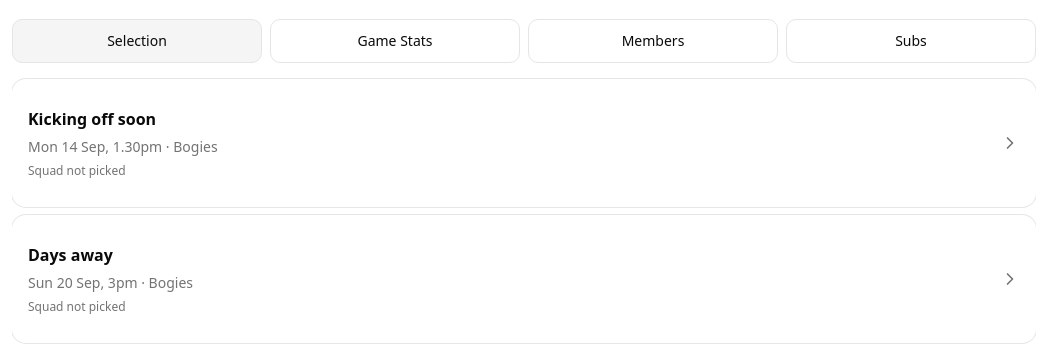
Scenario: Game Stats view (S17.2 AC2, AC3) › shows a match from an hour before kick-off, before it has started (S18.3)
Click the radio button labelled "Game Stats".
click(395, 41)  # box [270,19,520,63]
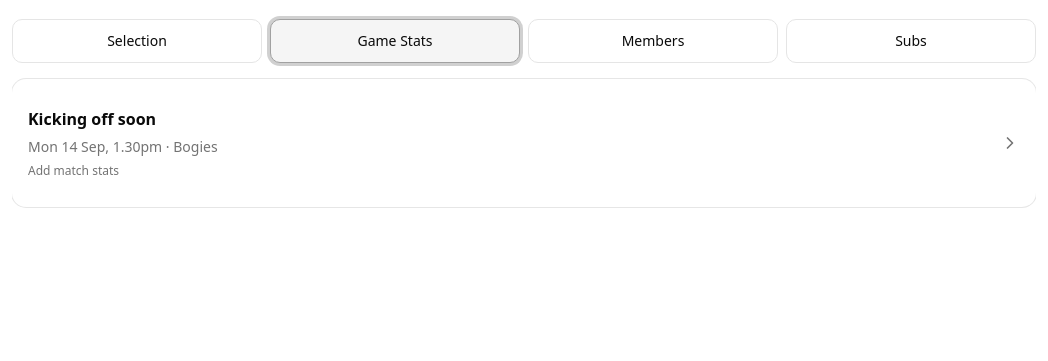
Expected: the text "Kicking off soon" is shown, [28,108,156,130]
Expected: the link "Days away" is gone
